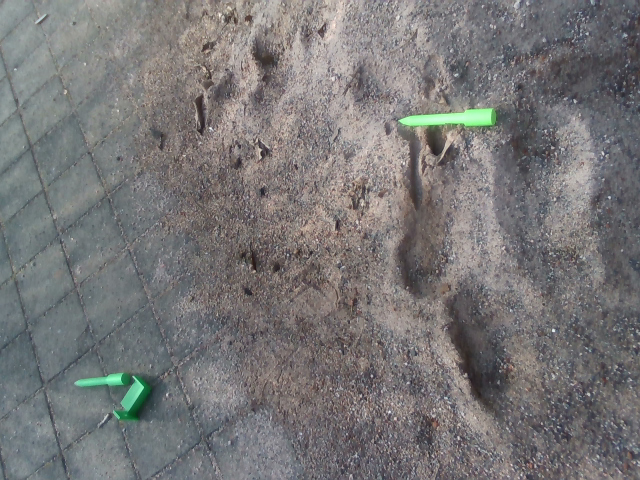Probe: (391, 103, 506, 137), (67, 365, 137, 393)
